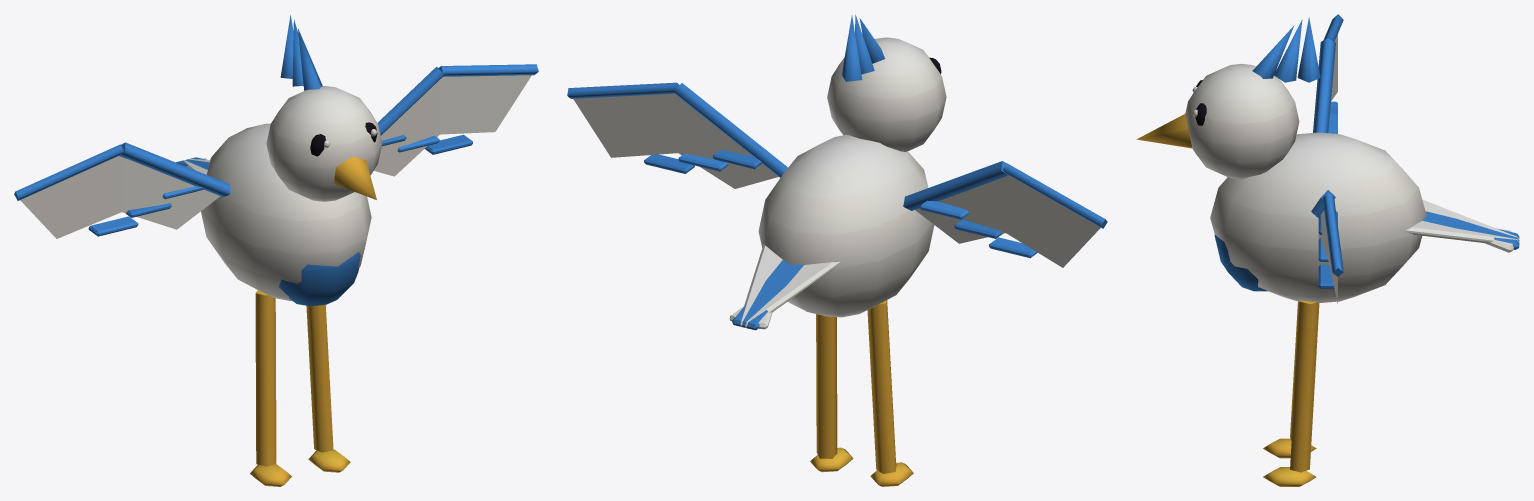
The model's file is monster_sky_heron.glb.
The picture shows the model from 3 angles, left to right: view 1: azimuth 30°, elevation 25°; view 2: azimuth 150°, elevation 25°; view 3: azimuth 270°, elevation 25°; orthographic projection. The views are drawn at different scales.
Visible parts, largest first — view 1: body_t0_bob2_palette, wingl_t0_palette, wingr_t0_palette, legl_t0_palette, legr_t0_palette; view 2: body_t0_bob2_palette, wingr_t0_palette, wingl_t0_palette, legl_t0_palette, tail_t0_palette, legr_t0_palette; view 3: body_t0_bob2_palette, legr_t0_palette, tail_t0_palette, wingl_t0_palette, wingr_t0_palette, legl_t0_palette.
Boxes of the visible parts, left/top/right/bottom form: body_t0_bob2_palette: left=201, top=15, right=382, bottom=306; wingl_t0_palette: left=14, top=142, right=230, bottom=238; wingr_t0_palette: left=374, top=64, right=538, bottom=176; legl_t0_palette: left=250, top=290, right=291, bottom=486; legr_t0_palette: left=306, top=305, right=350, bottom=472; body_t0_bob2_palette: left=758, top=14, right=946, bottom=317; wingr_t0_palette: left=567, top=82, right=787, bottom=188; wingl_t0_palette: left=903, top=161, right=1107, bottom=267; legl_t0_palette: left=867, top=300, right=913, bottom=486; tail_t0_palette: left=729, top=243, right=840, bottom=330; legr_t0_palette: left=810, top=314, right=853, bottom=472; body_t0_bob2_palette: left=1136, top=17, right=1426, bottom=302; legr_t0_palette: left=1263, top=300, right=1319, bottom=486; tail_t0_palette: left=1405, top=199, right=1519, bottom=252; wingl_t0_palette: left=1313, top=14, right=1343, bottom=133; wingr_t0_palette: left=1311, top=190, right=1343, bottom=303; legl_t0_palette: left=1263, top=301, right=1316, bottom=458.
Size of the model in its own units: 0.6229 by 0.518 by 0.3973.
